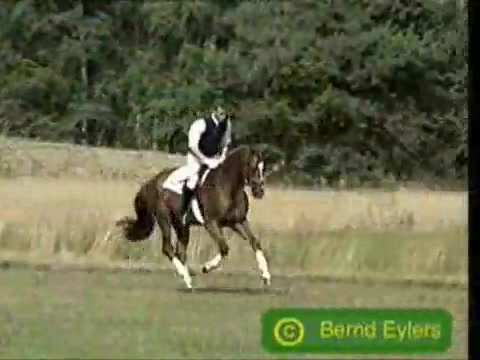horse: (118, 146, 275, 292)
